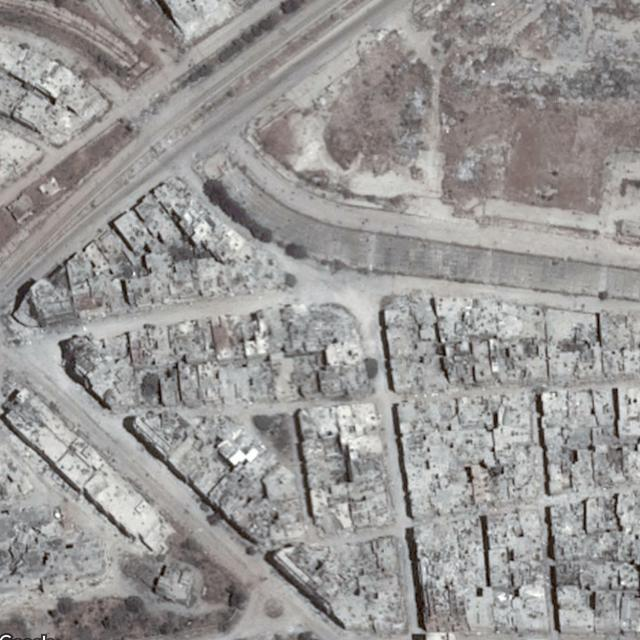damaged_building: (189, 232, 283, 296), (280, 303, 368, 367), (414, 515, 486, 583)
